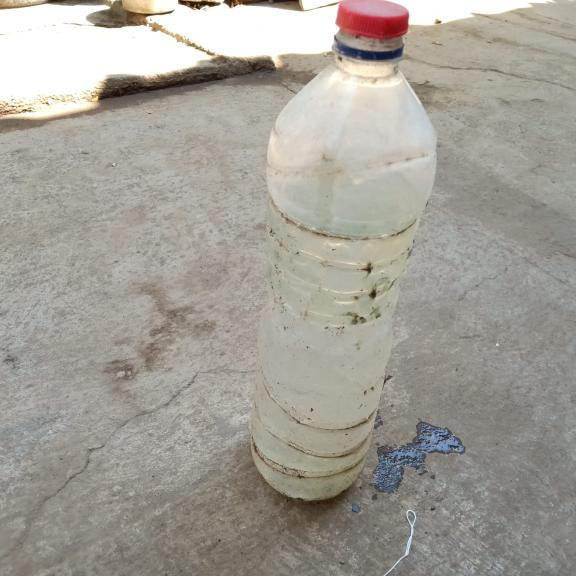Plastik: (252, 0, 438, 500)
